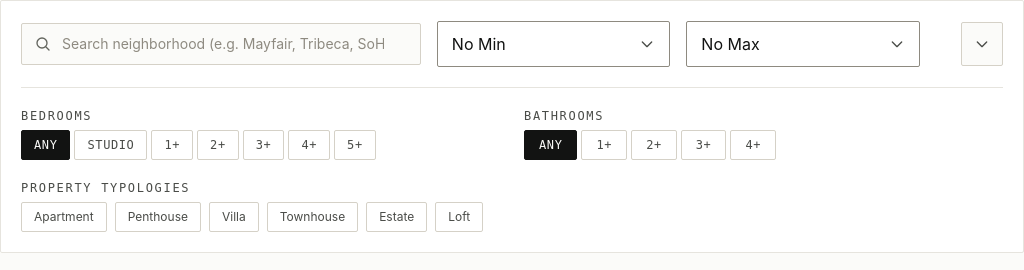
Adversarial WCAG 2.2 AA & Responsive Viewport Audit › 2. Mobile Responsive Components & Overflow Behavior › verifies FilterBar mobile expand/collapse toggle aria states
The width and height of the screenshot is (1024, 270).
Click the button named "More Filters": (982, 44) [961,22,1003,66]
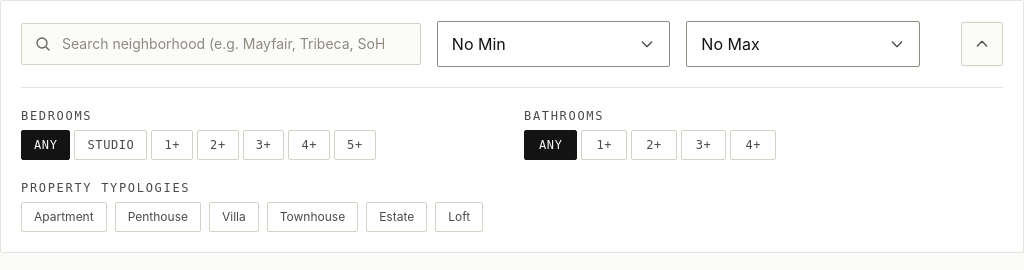
Result: the button named "More Filters" is expanded at [961,22,1003,66]
